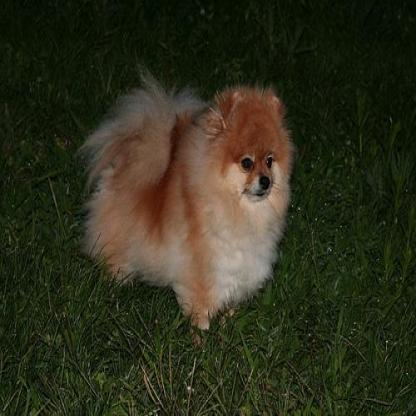Pomeranian: (71, 63, 293, 330)
